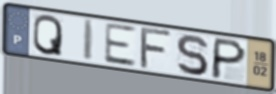E: (102, 21, 138, 69)
F: (138, 26, 175, 70)
I: (82, 18, 97, 64)
P: (209, 36, 249, 81)
Q: (31, 13, 64, 58)
S: (174, 33, 210, 77)
